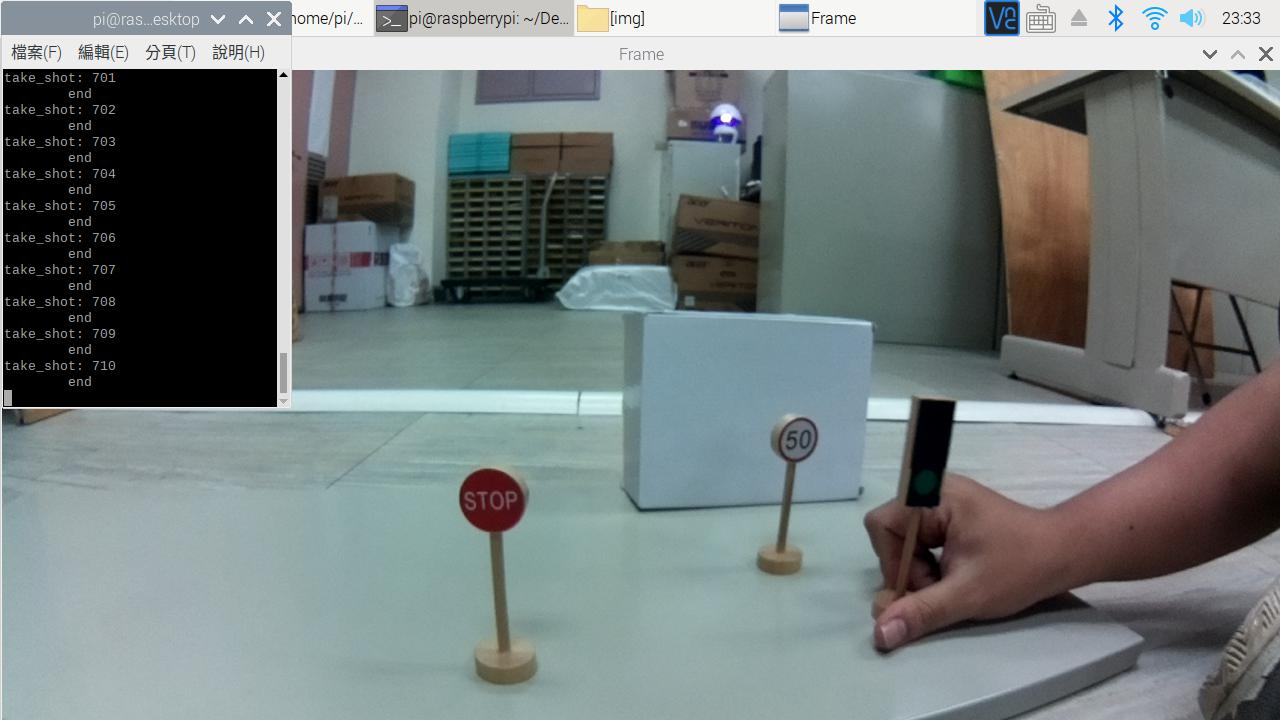Green: (892, 378, 961, 518)
Speed50: (769, 407, 825, 475)
Stop: (448, 456, 551, 544)
